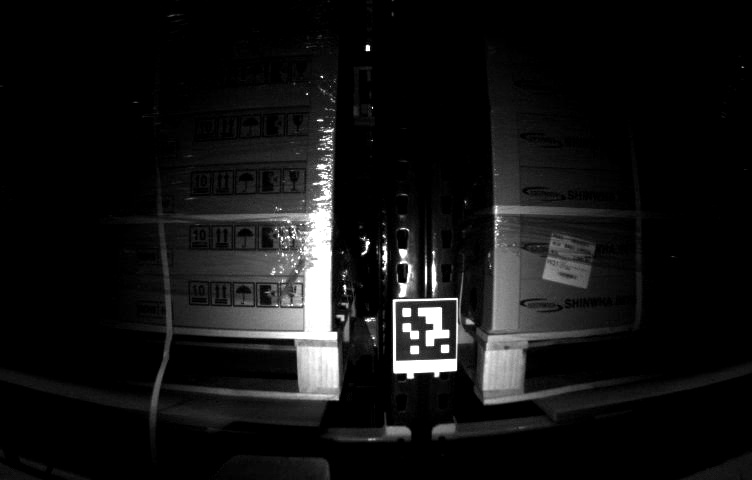True Barcode: (540, 231, 596, 288)
